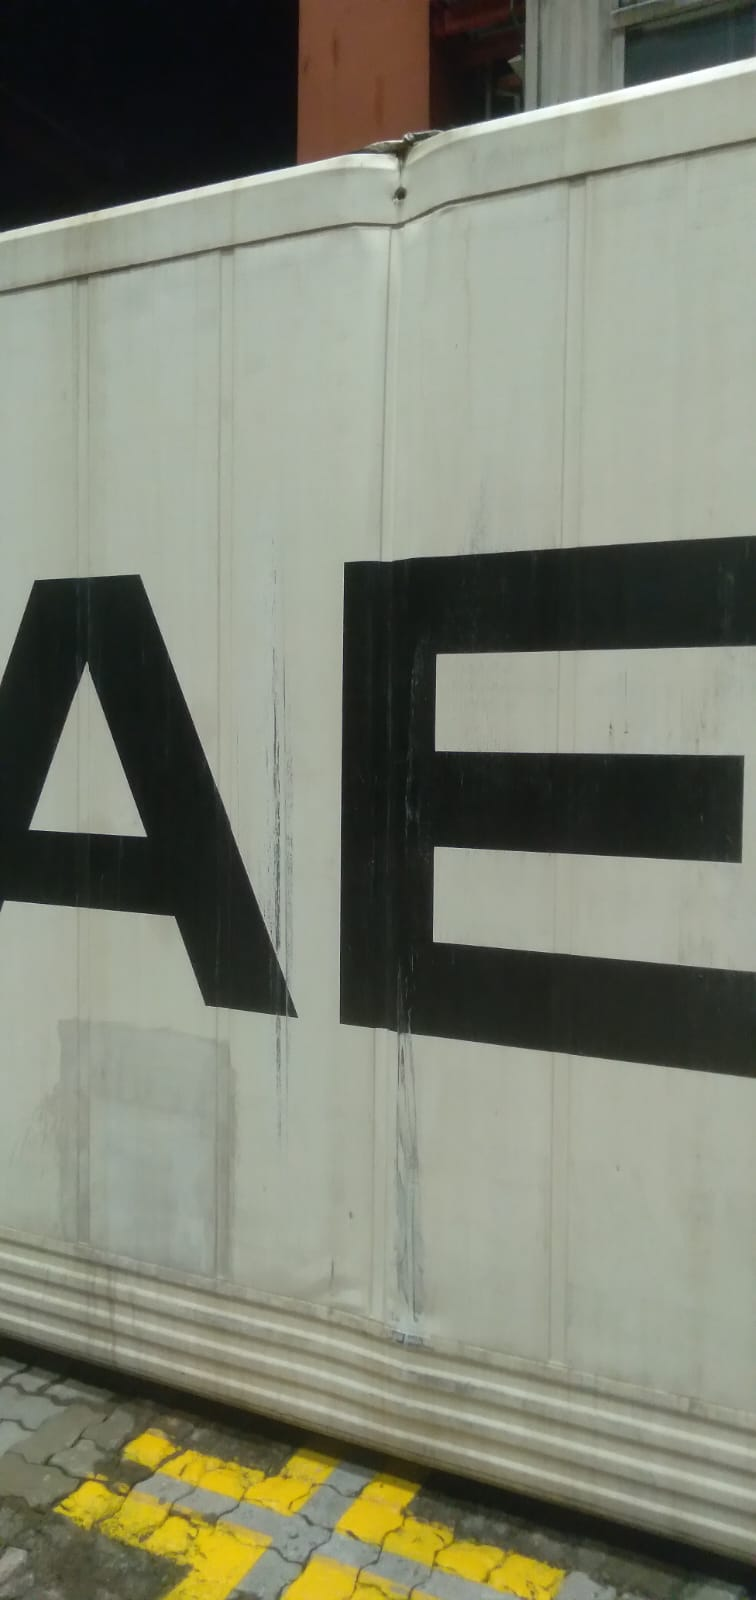moderate: (331, 140, 478, 232)
